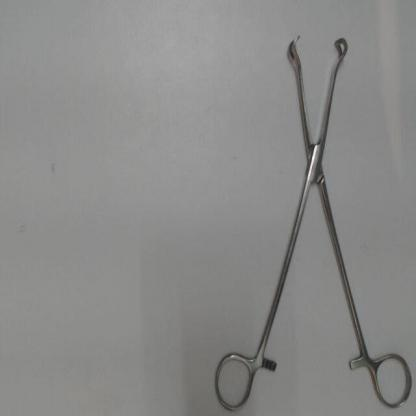8 Babcock Tissue Forceps: (210, 27, 415, 413)
